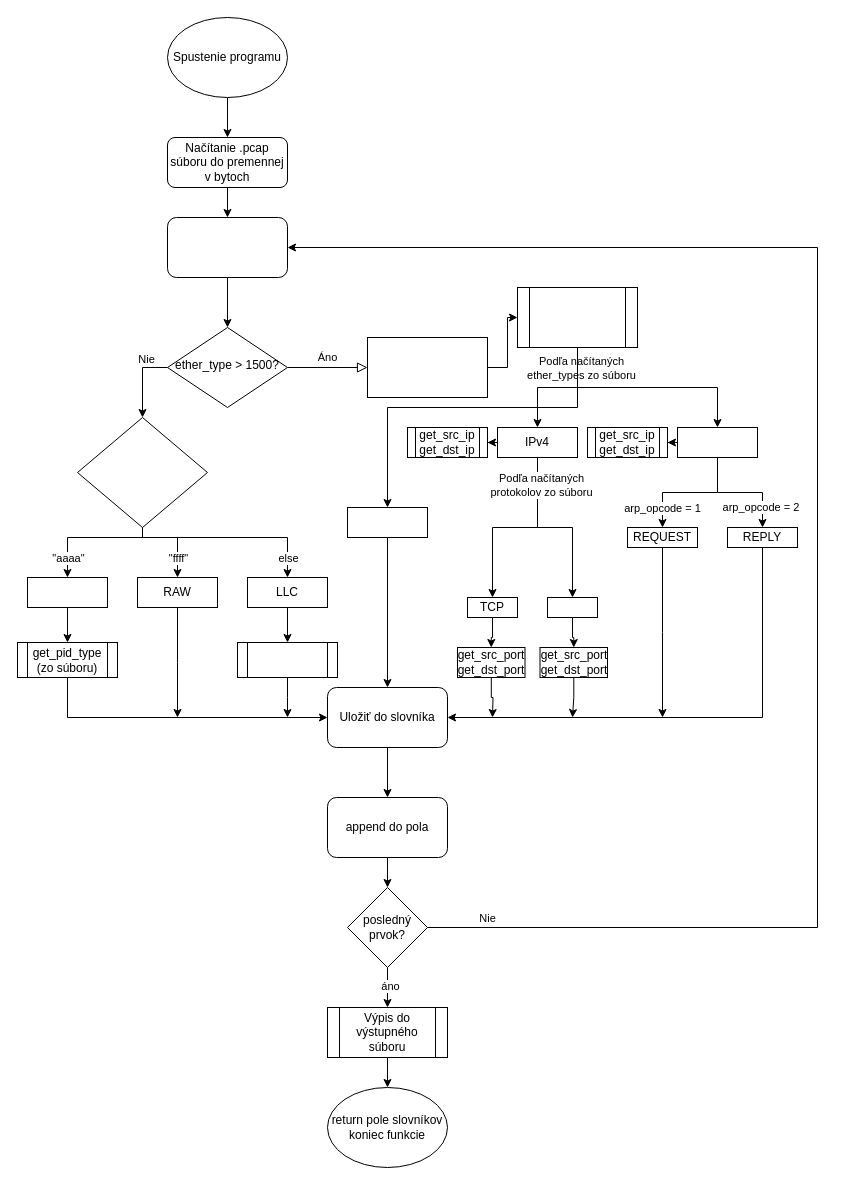
This 843x1185 diagram has some shape labels left out. Here are the shapes that lost their labels. From the top down, the centre of each, then its label:
At (x=227, y=247): "načítanie rámca do premennej".
At (x=577, y=317): "get_ether_type".
At (x=427, y=367): "ETHERNET II".
At (x=717, y=442): "ARP".
At (x=142, y=472): "Pozrieme 2 bajty po ether_type".
At (x=387, y=522): "iný ether_type".
At (x=67, y=592): "LLC & SNAP".
At (x=572, y=607): "UDP".
At (x=287, y=660): "get_sap_type (zo súboru)".
